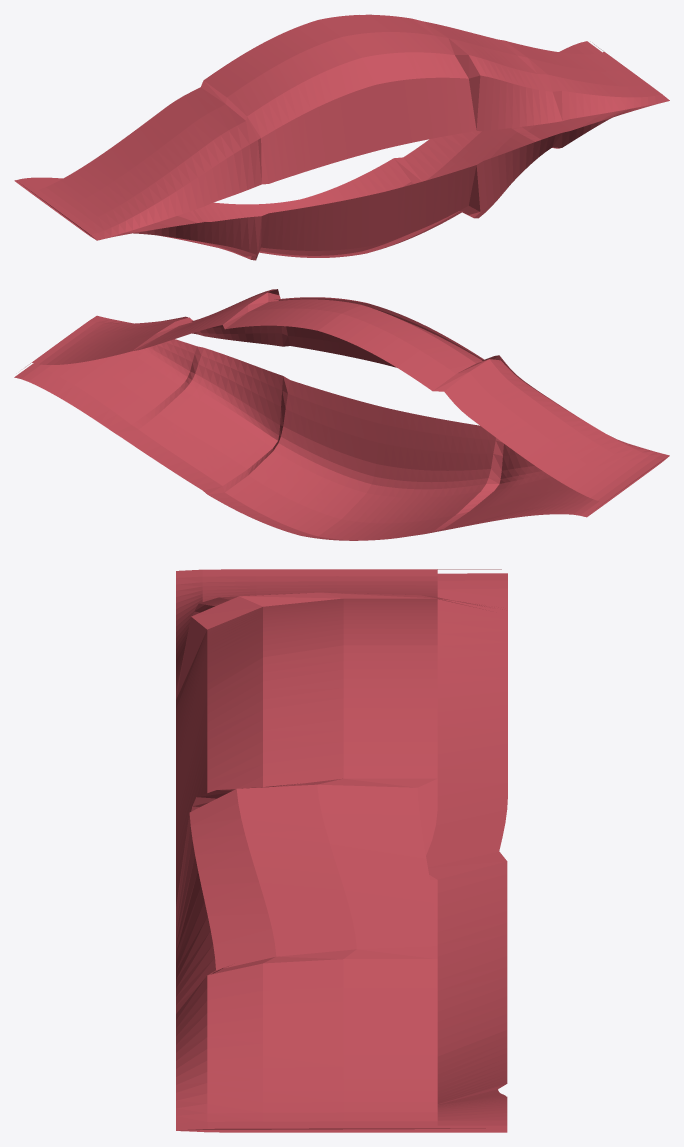
Rendered from D3_31point.glb.
3 renders of one model, top to bottom at view 1: azimuth 30°, elevation 25°; view 2: azimuth 150°, elevation 25°; view 3: azimuth 270°, elevation 25°, orthographic. The views are drawn at different scales.
Parts seen in each view (by area): view 1: world; view 2: world; view 3: world.
Boxes of the visible parts, x1,y1,x2,y2 form: world: [14, 14, 669, 260]; world: [14, 289, 669, 540]; world: [176, 569, 507, 1132].
Bounding box in the file's own units: 4.7 × 1.61 × 1.18.
